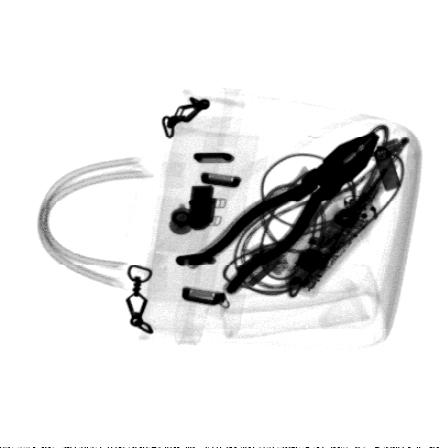Pliers: (174, 130, 381, 295)
